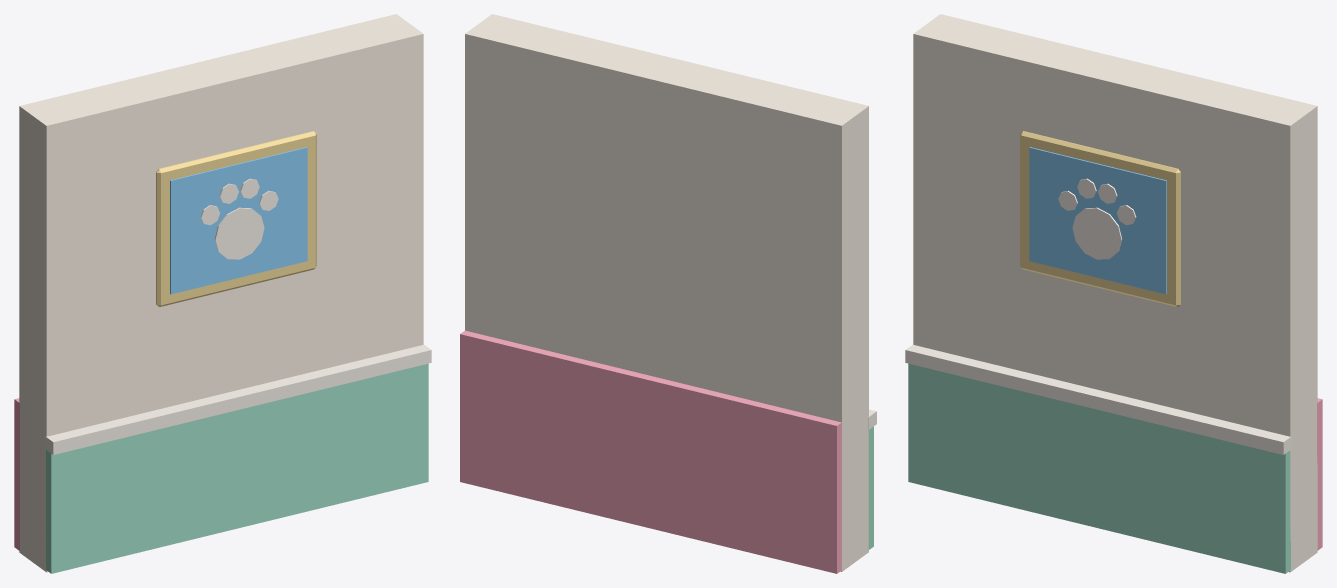
The model's file is CleanACat_Area_VipDoorFill.fbx.
3 views of the same model, side by side, from view 1: azimuth 30°, elevation 25°; view 2: azimuth 150°, elevation 25°; view 3: azimuth 330°, elevation 25° (orthographic).
Parts seen in each view (by area): view 1: CleanACat_Area_VipDoorFill, CleanACat_Area_VipDoorFill_Decor; view 2: CleanACat_Area_VipDoorFill; view 3: CleanACat_Area_VipDoorFill, CleanACat_Area_VipDoorFill_Decor.
Boxes of the visible parts, x1,y1,x2,y2 form: CleanACat_Area_VipDoorFill: (14, 14, 431, 573); CleanACat_Area_VipDoorFill_Decor: (156, 131, 316, 306); CleanACat_Area_VipDoorFill: (460, 14, 876, 573); CleanACat_Area_VipDoorFill: (905, 14, 1322, 573); CleanACat_Area_VipDoorFill_Decor: (1020, 131, 1180, 306).
Bounding box in the file's own units: 8.02 × 9.05 × 1.45.
Materials: 1 (1 with a texture image).
